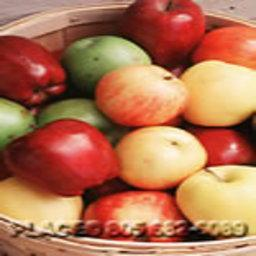apple: (4, 118, 118, 196), (118, 127, 206, 191), (177, 164, 255, 236), (96, 65, 187, 124), (61, 35, 148, 96), (120, 1, 205, 62), (181, 61, 256, 129), (1, 36, 65, 108), (188, 24, 255, 71)
